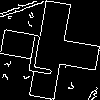L: (25, 25, 60, 75)
